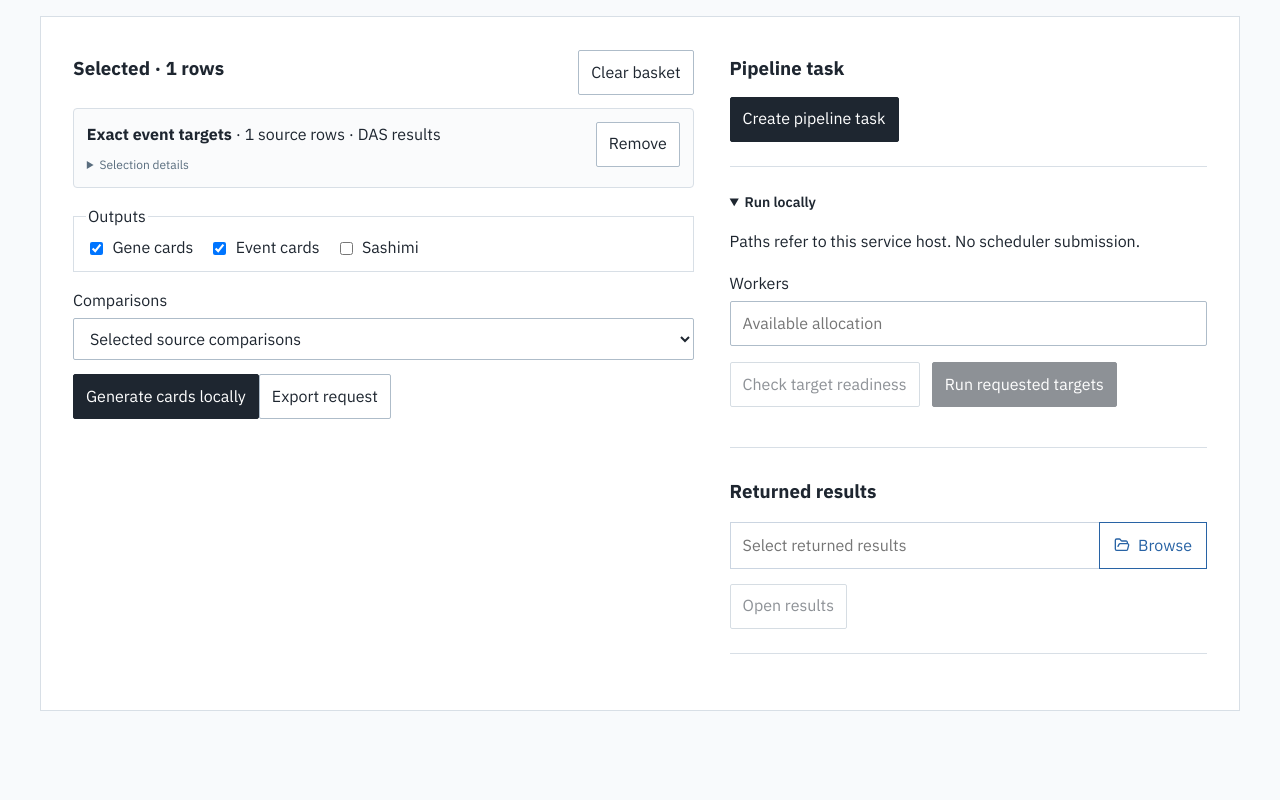
Scenario: exports explicit all-project comparison scope and displays the verified target scope
The image size is (1280, 800).
Select "All project comparisons" in the dropdown named "Target comparison scope" at (383, 339), box [73, 318, 694, 360]
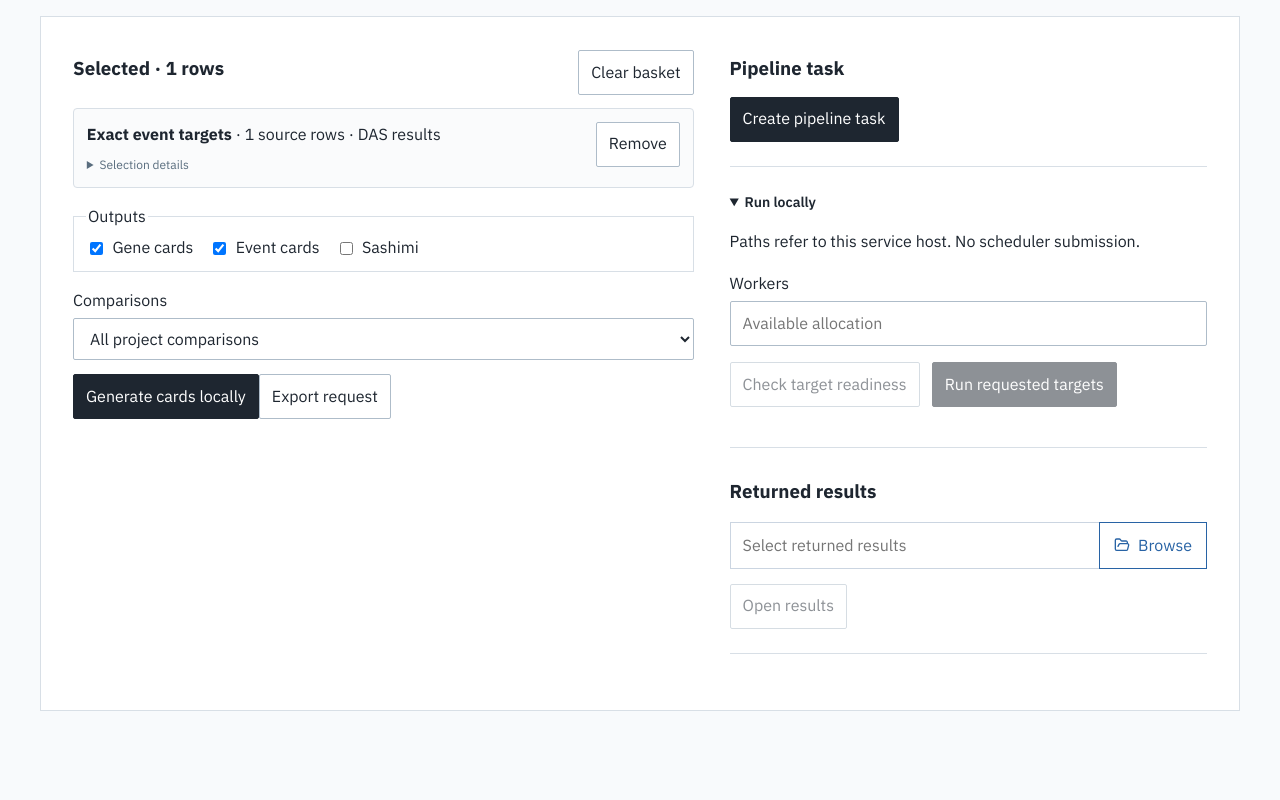
Click the button with aria-label "Export portable target request" at (325, 397), box [259, 374, 391, 420]
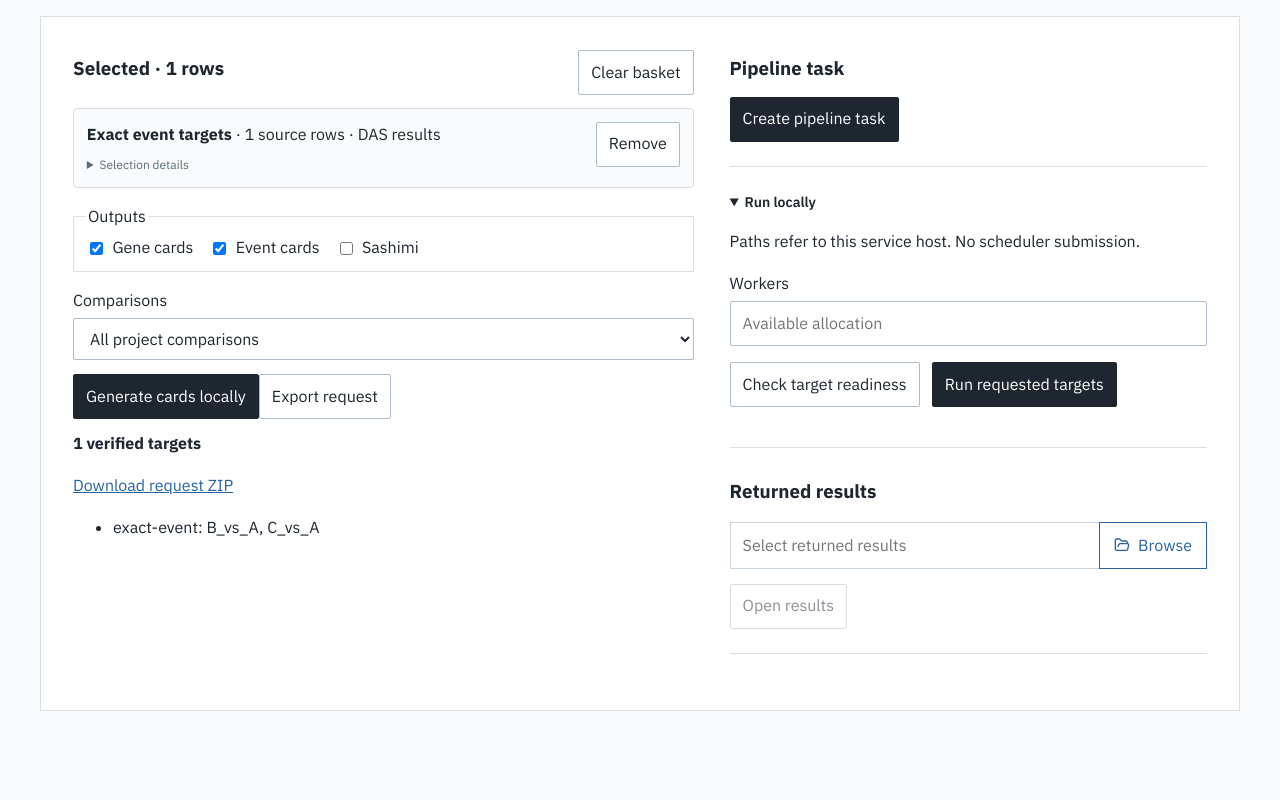
expect the link "Download request ZIP" is shown: met, box [73, 473, 233, 499]
expect the list item "exact-event: B_vs_A, C_vs_A" is shown: met, box [113, 517, 320, 537]
